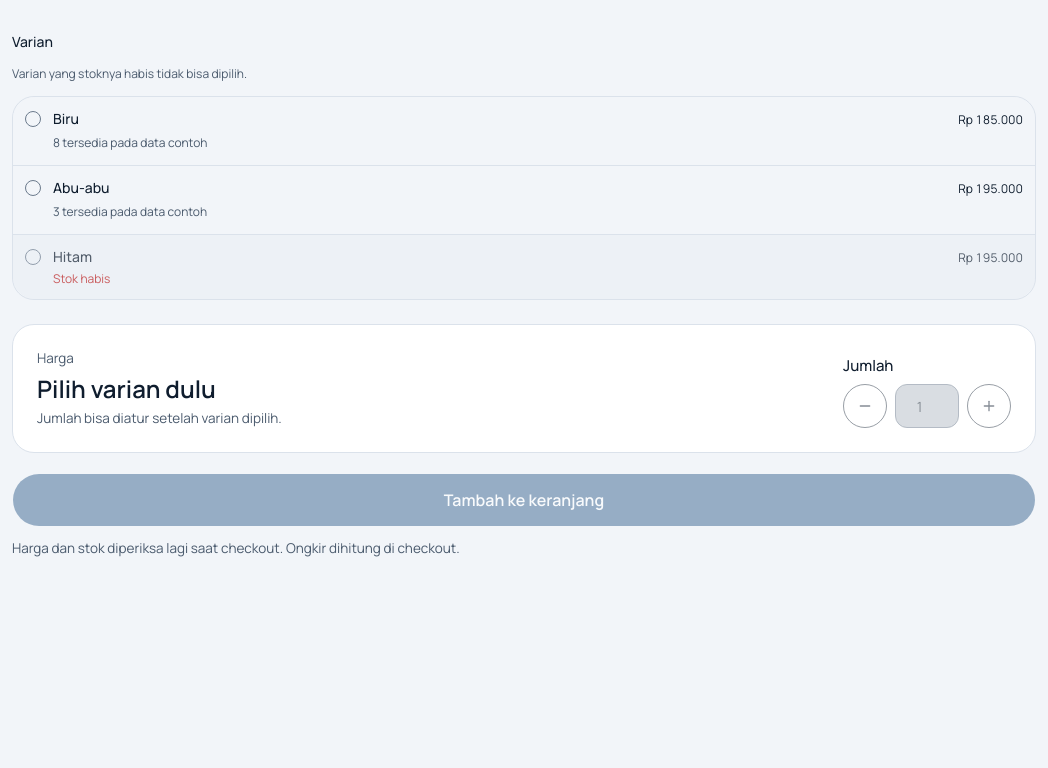
Test: product selection preview › stores only variant ID and quantity without a network request
Click the radio button named "Biru" next to "Biru": (33, 119) x1=25 y1=111 x2=41 y2=127
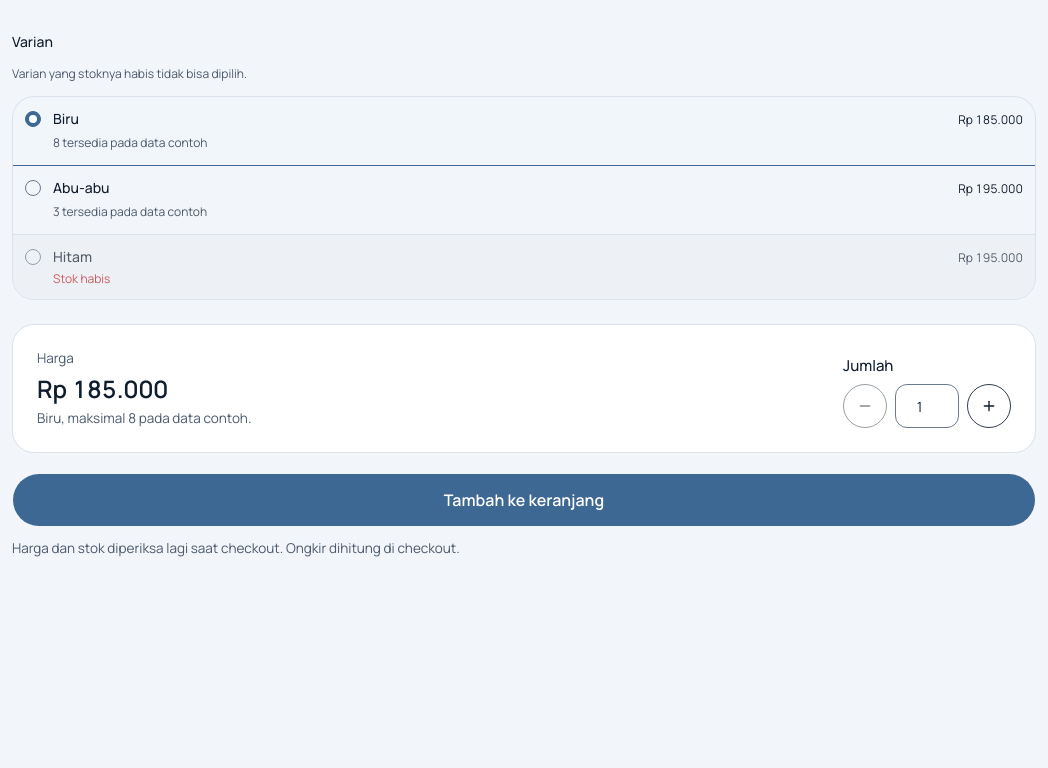
Click the button "Tambah ke keranjang": (524, 500) x1=12 y1=473 x2=1036 y2=527
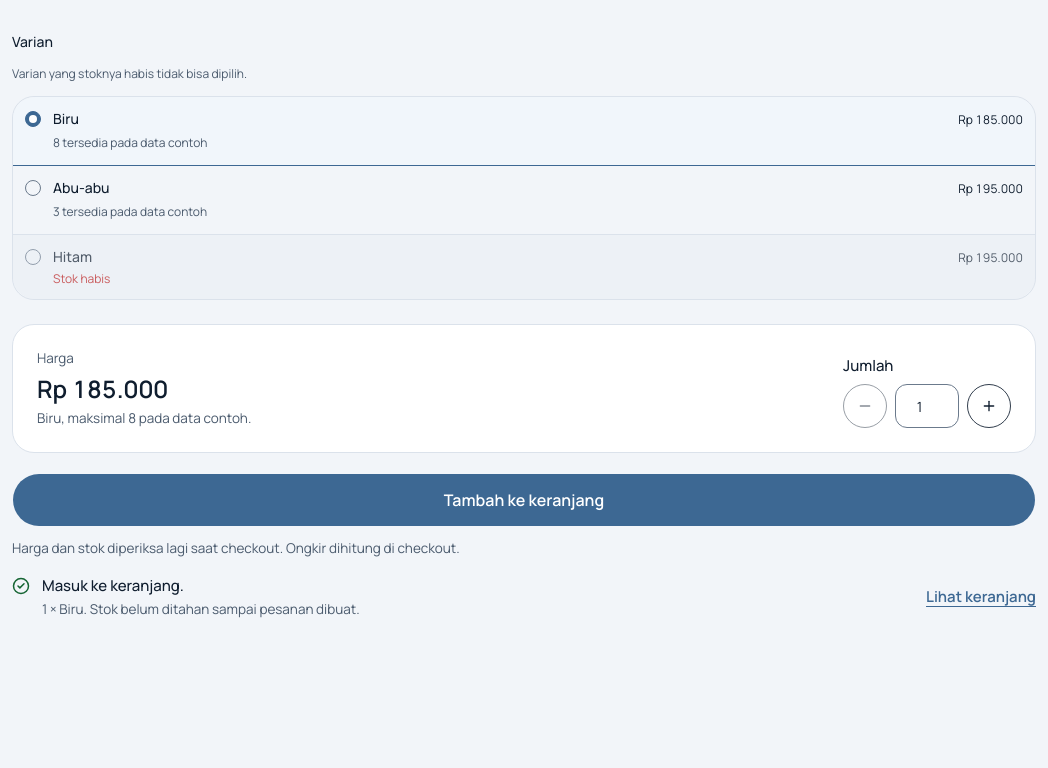
Expected: the text "Masuk ke keranjang." is shown, x1=42 y1=575 x2=184 y2=596
